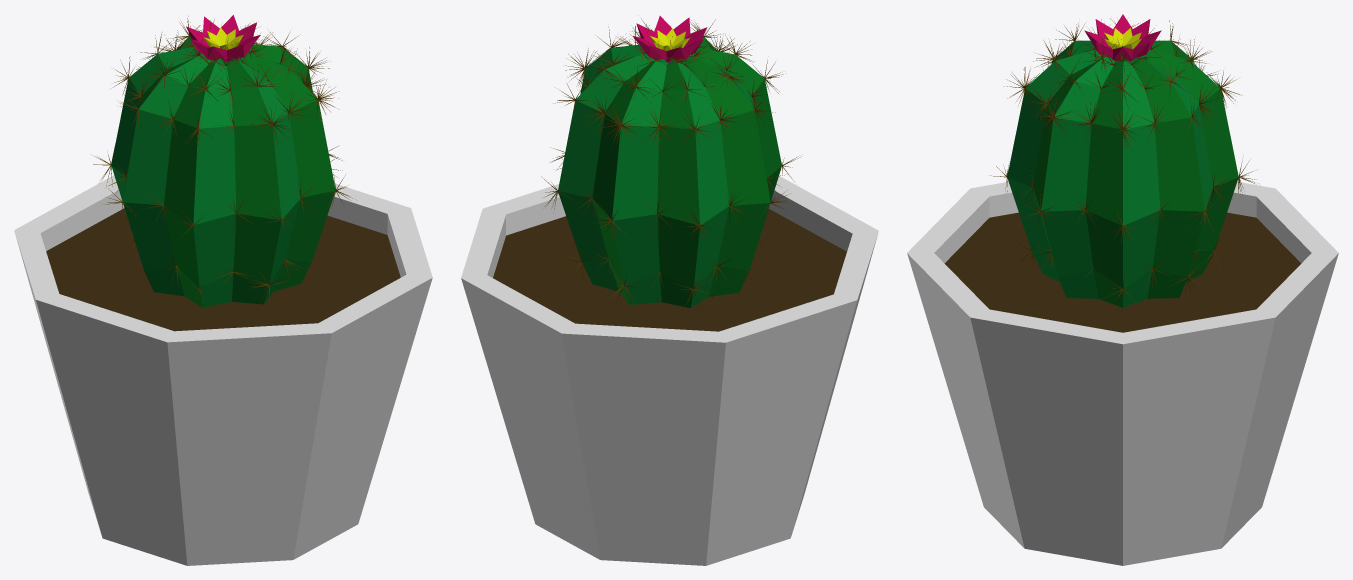
File: low_poly_cactus.glb
3 renders of one model, left to right at view 1: azimuth 30°, elevation 25°; view 2: azimuth 150°, elevation 25°; view 3: azimuth 270°, elevation 25°, orthographic.
Parts seen in each view (by area): view 1: Cylinder.001, Cylinder, Cylinder.002, Cylinder.003; view 2: Cylinder.001, Cylinder, Cylinder.002, Cylinder.003; view 3: Cylinder.001, Cylinder, Cylinder.002.
Part boxes in pixels (box(x1,y1,x2,y2)): Cylinder.001: box(14, 175, 432, 565); Cylinder: box(111, 36, 335, 307); Cylinder.002: box(186, 15, 260, 61); Cylinder.003: box(203, 27, 243, 49); Cylinder.001: box(461, 176, 878, 565); Cylinder: box(558, 37, 781, 308); Cylinder.002: box(633, 16, 707, 62); Cylinder.003: box(650, 28, 689, 50); Cylinder.001: box(907, 182, 1338, 565); Cylinder: box(1007, 40, 1238, 307); Cylinder.002: box(1084, 14, 1161, 61).
Bounding box in the file's own units: 2.87 × 3.52 × 2.87.
